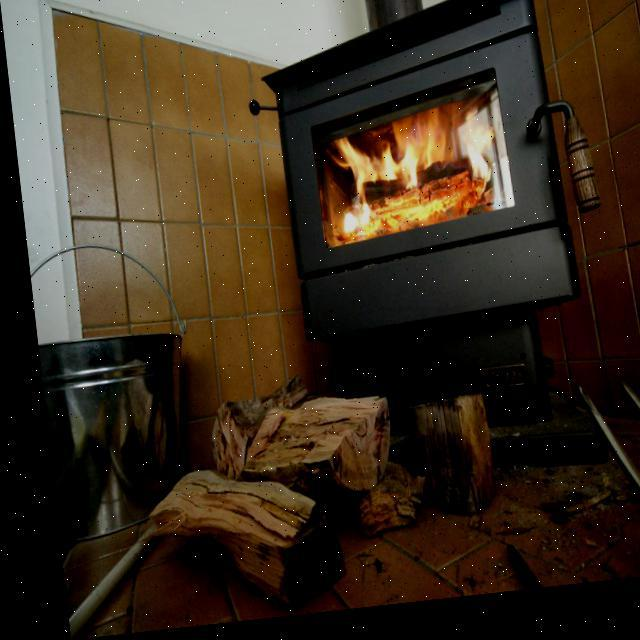Fire: (310, 117, 489, 246)
